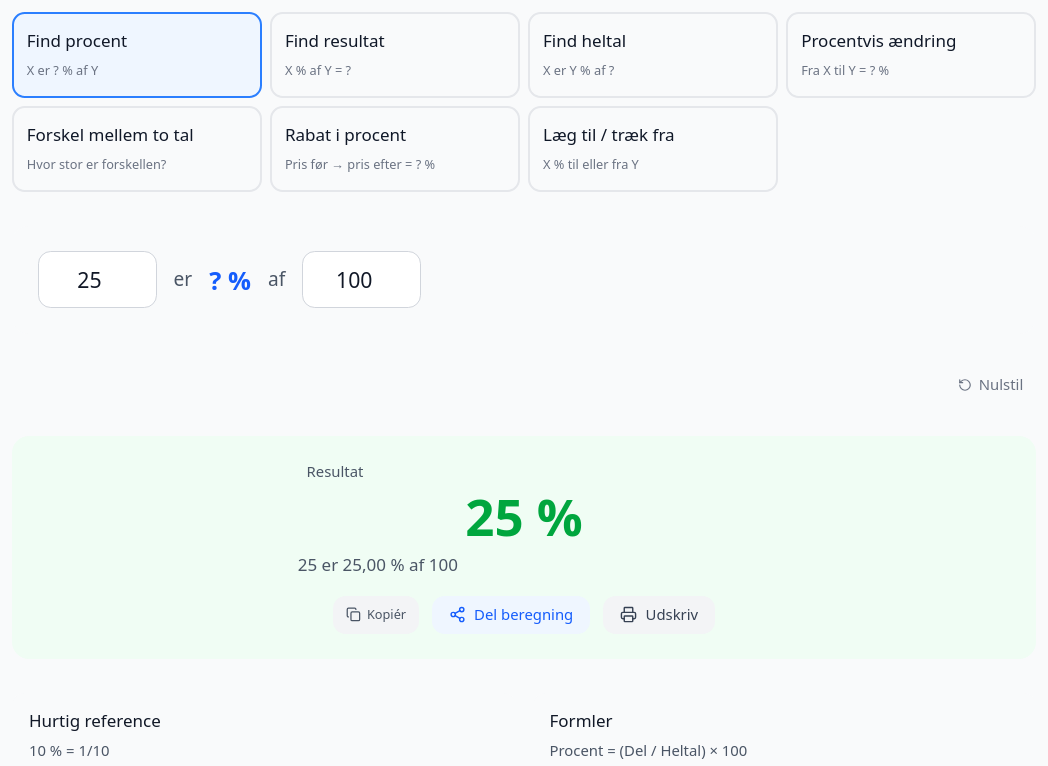
Test: ProcentBeregner › hovedtallet og forklaringen bruger samme kommaformat
The width and height of the screenshot is (1048, 766).
Replace the text in the number field named "Heltal (nævneren)" with "9000". click: [362, 280]
box: [302,251,421,308]
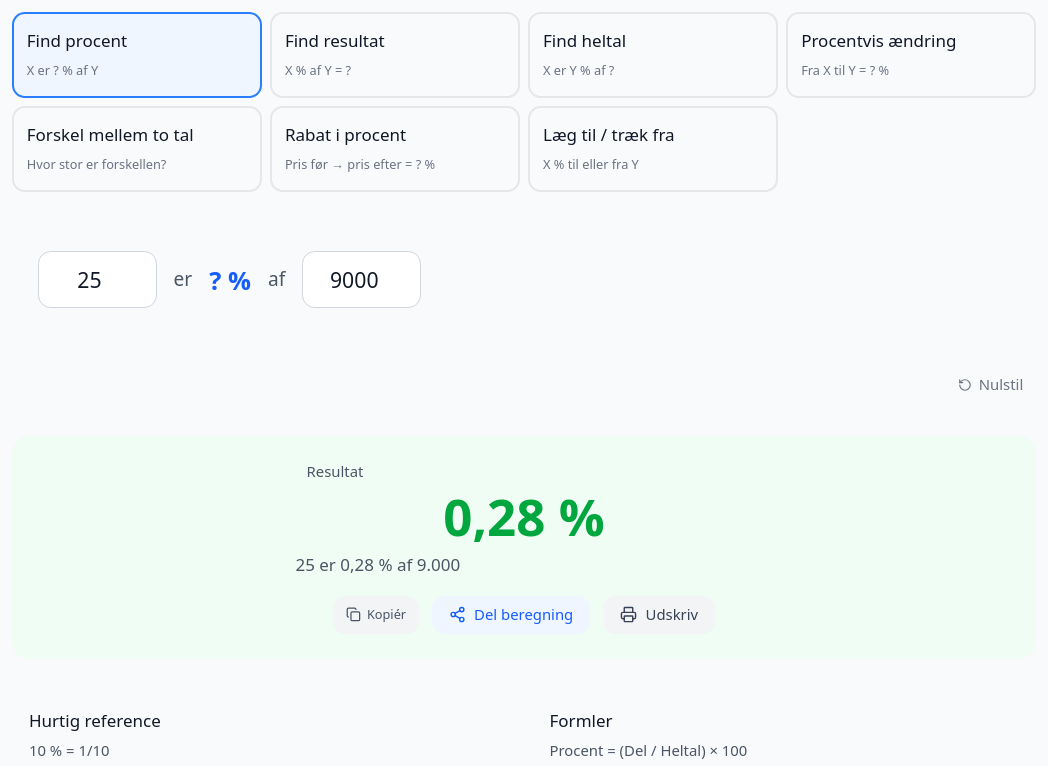
Result: the text "9.000" is shown at [295,553,460,576]
